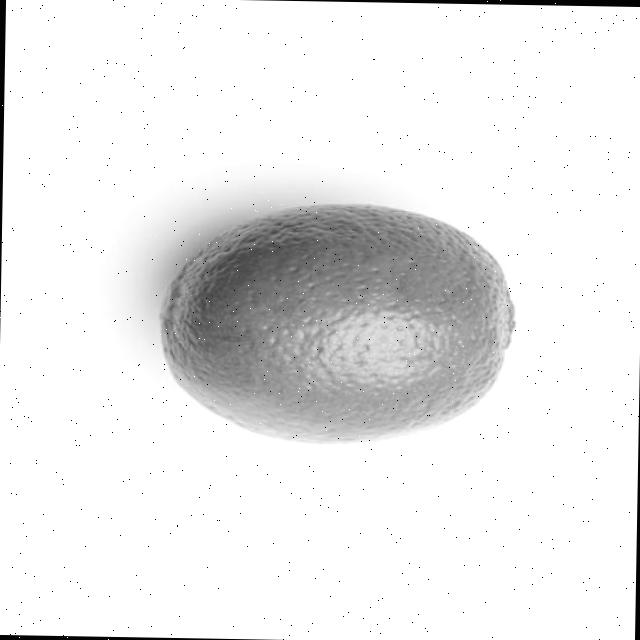Unripe: (158, 198, 520, 448)
